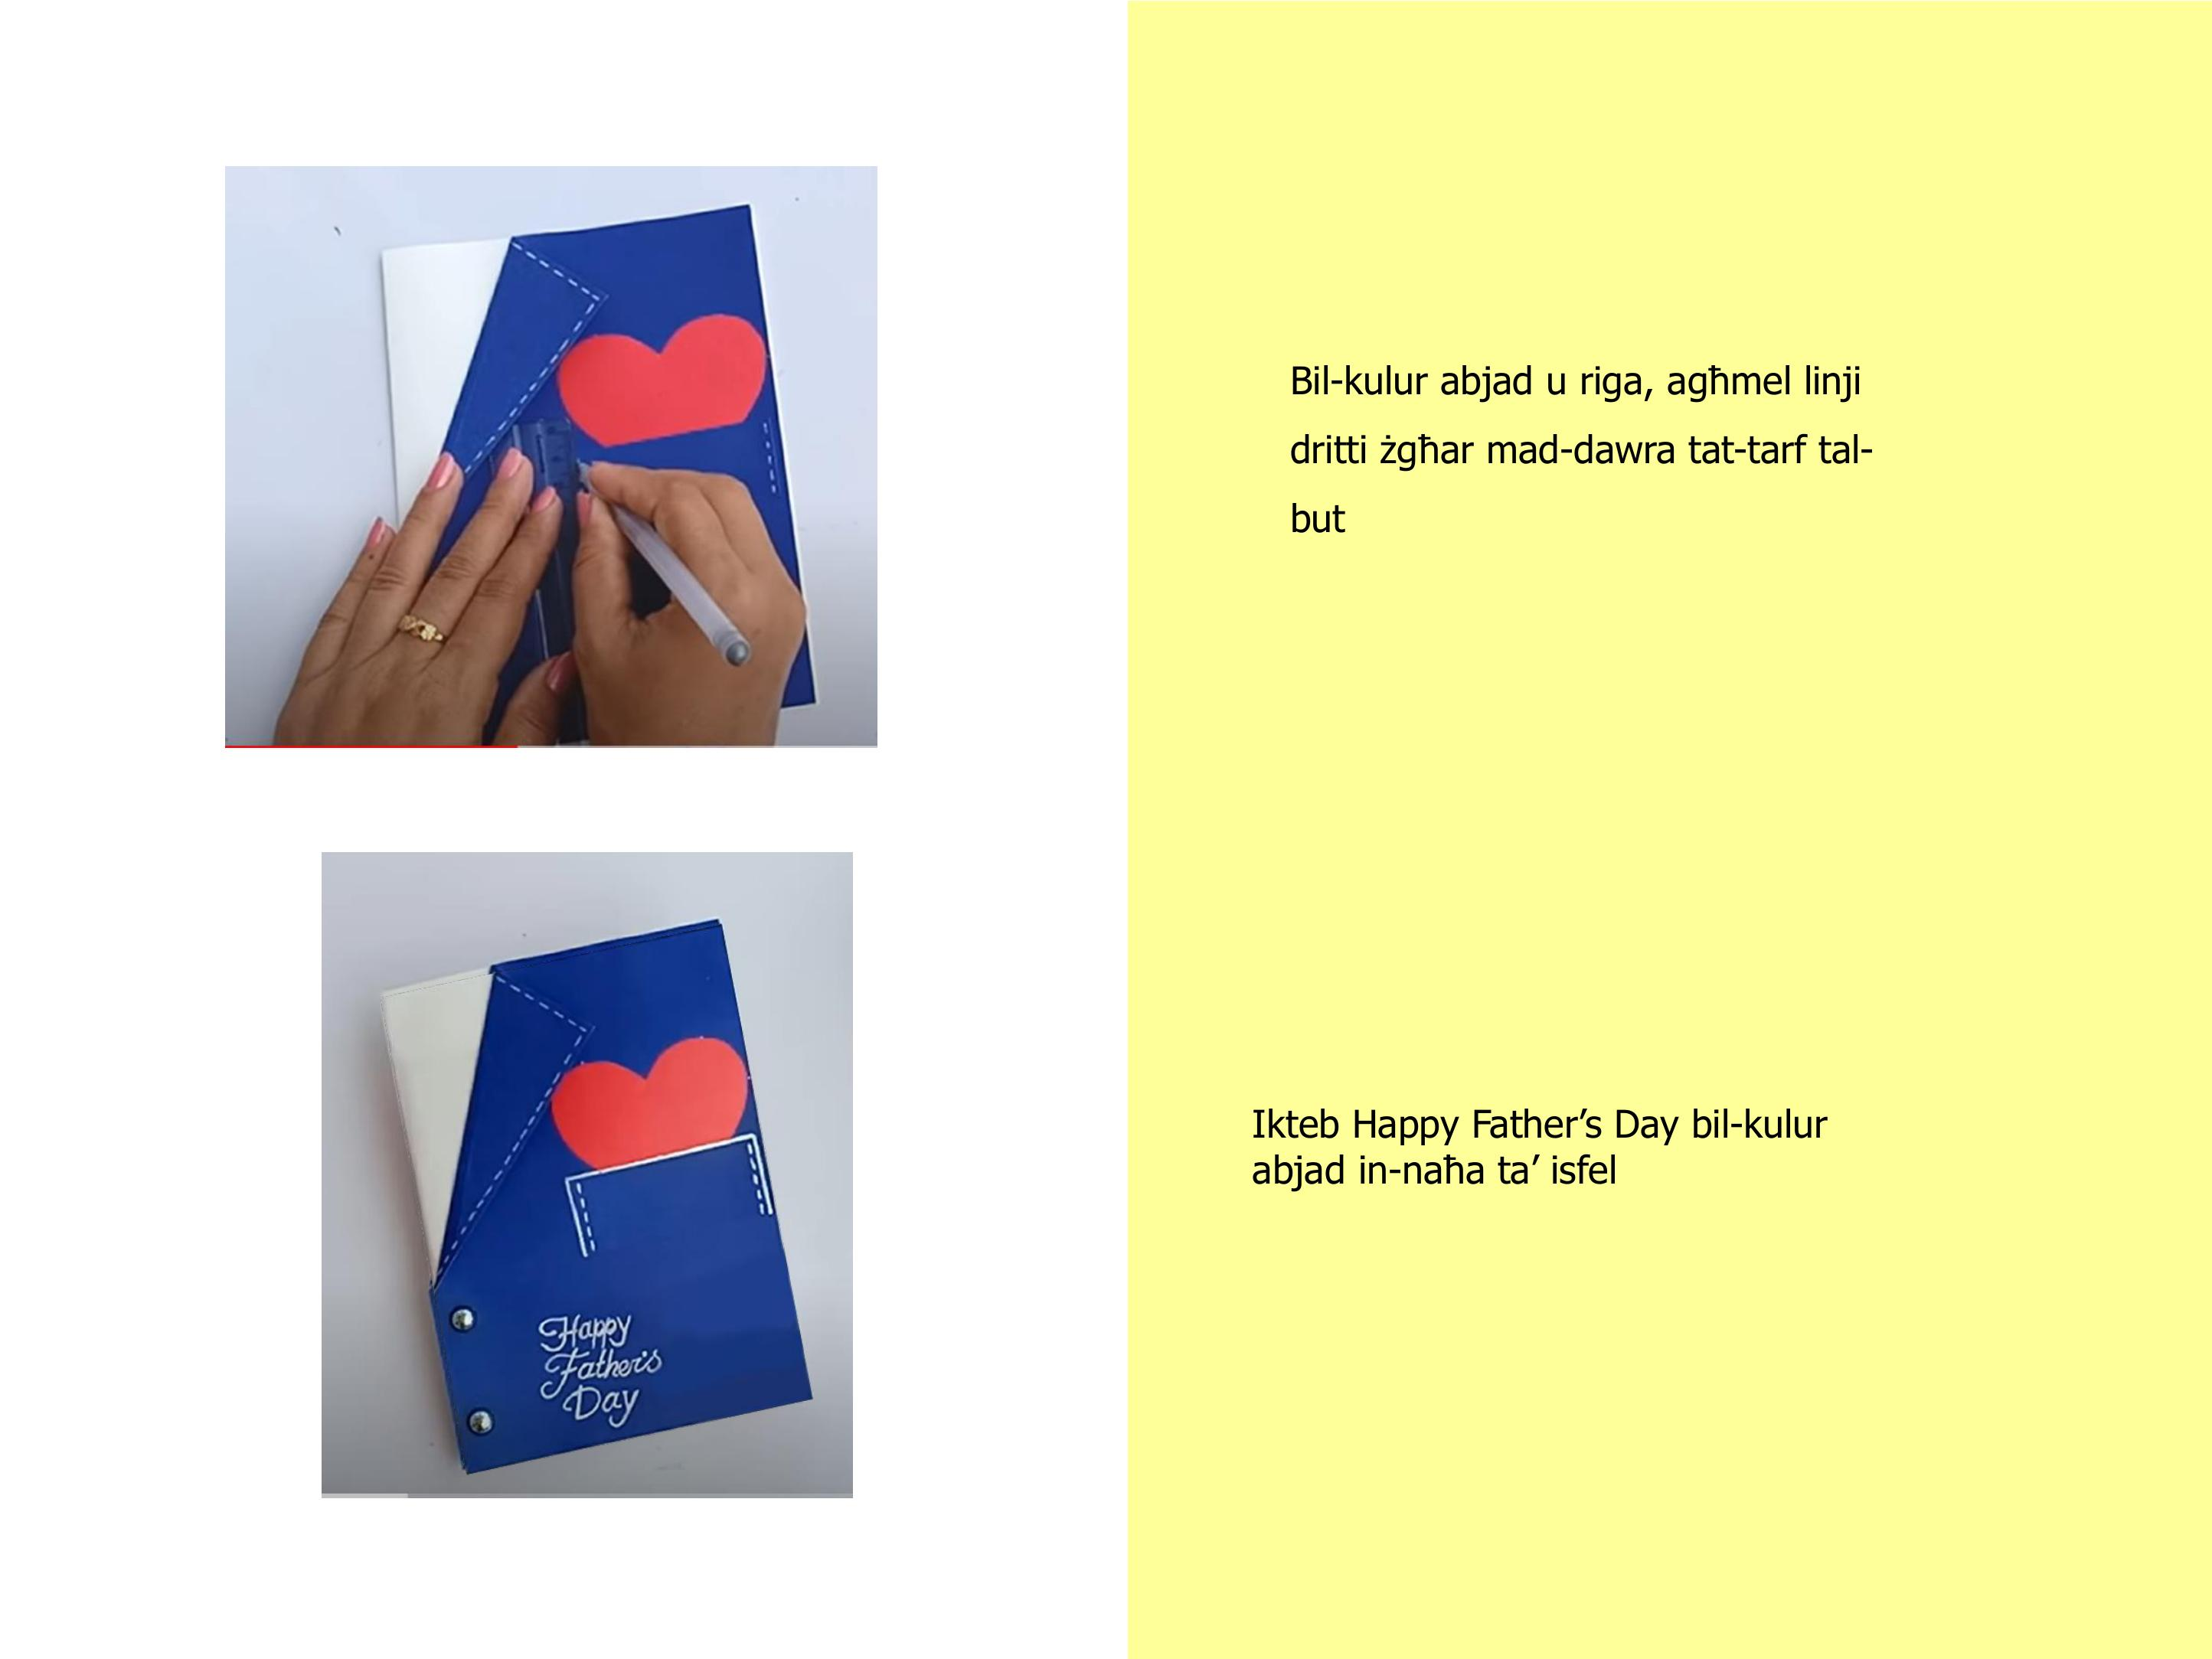text: (1218, 328, 1891, 1255)
